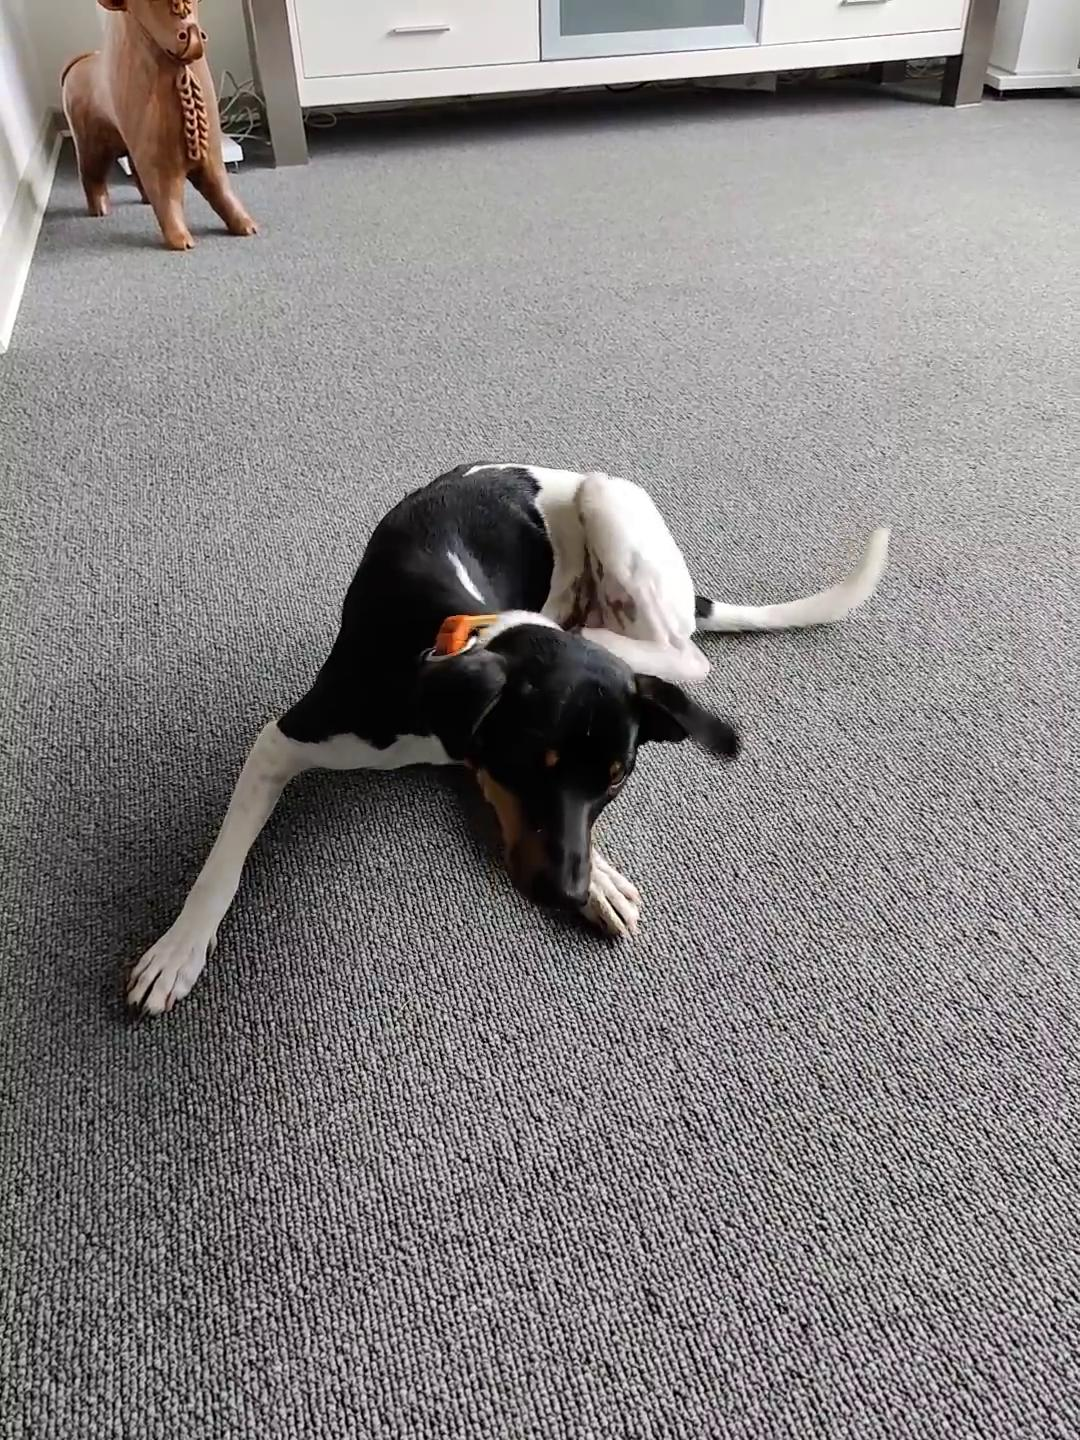Dog: (121, 456, 898, 1020)
